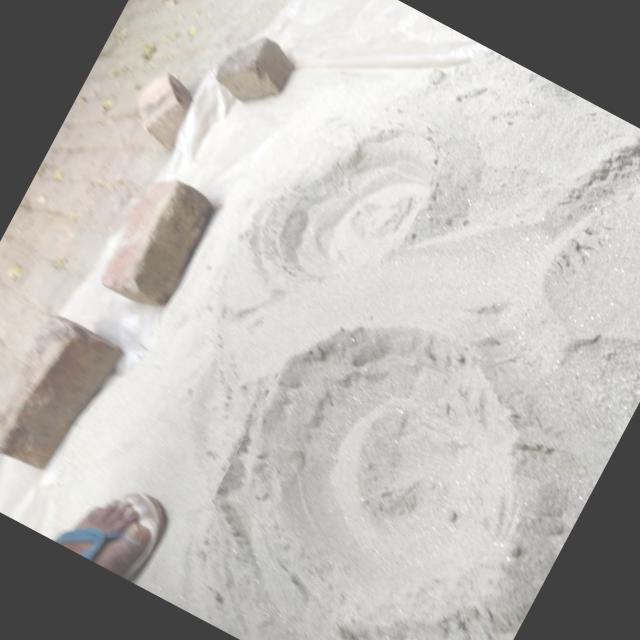C20: (235, 330, 515, 633), (255, 128, 433, 275)
